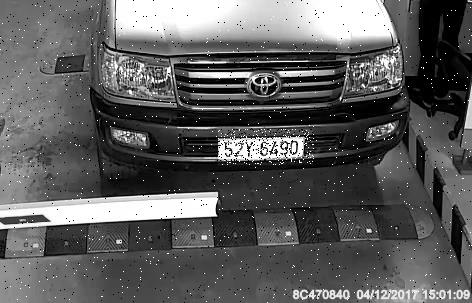License-plate: (220, 130, 316, 166)
